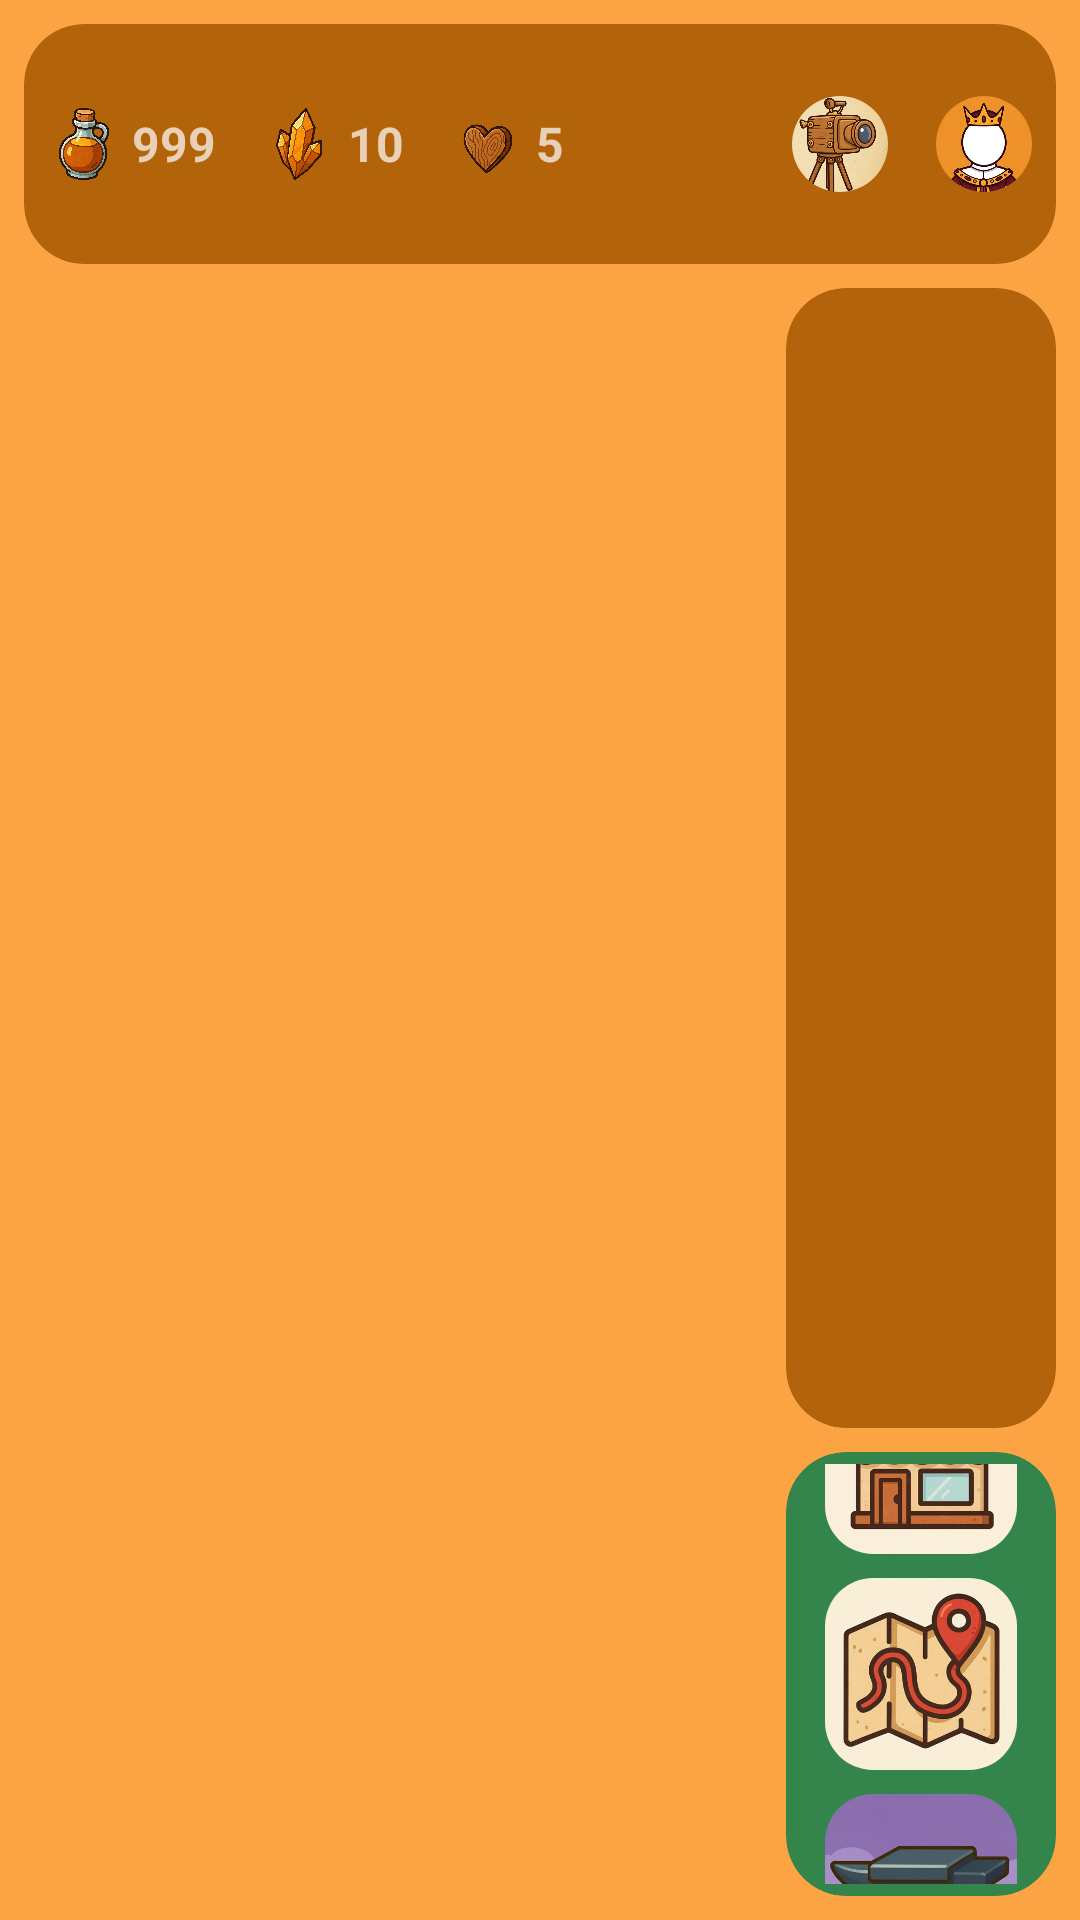

Named icons in this screenshot (1080px×1920px) and their centers, [x,y]:
bois: [487,148]
carte: [921,1674]
cristale: [299,144]
erable: [84,144]
scan: [840,144]
user: [984,144]
